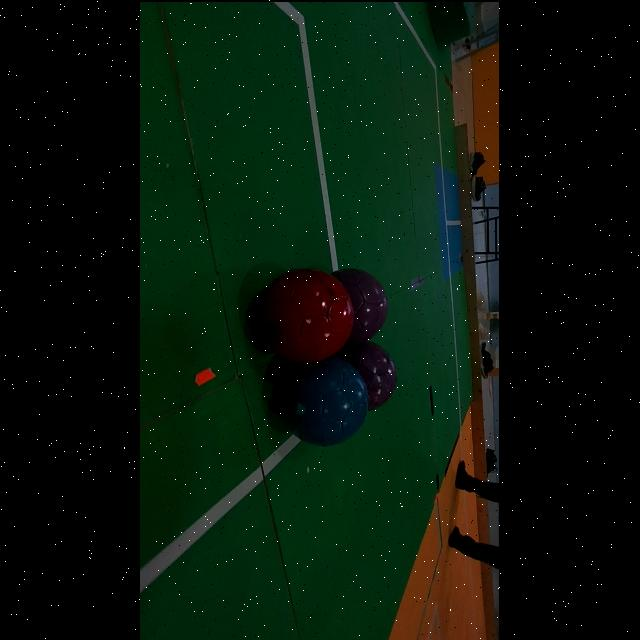B: (281, 356, 369, 445)
P: (337, 340, 398, 409), (334, 268, 389, 343)
R: (258, 268, 355, 361)
